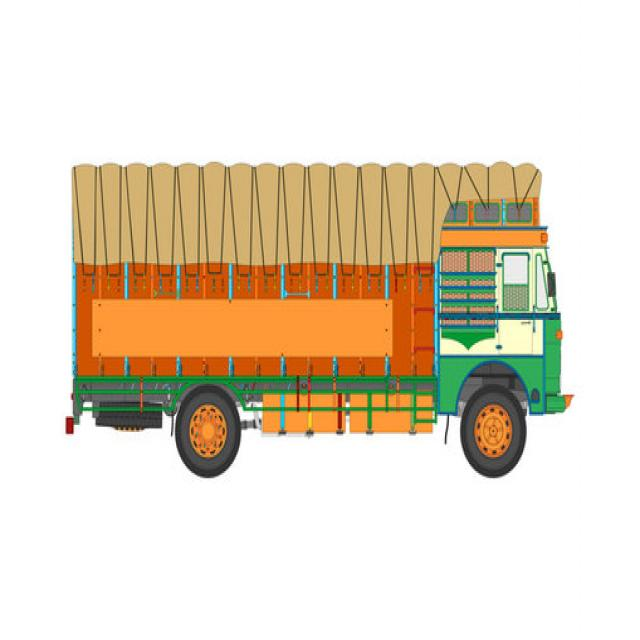Truck: (66, 145, 573, 480)
